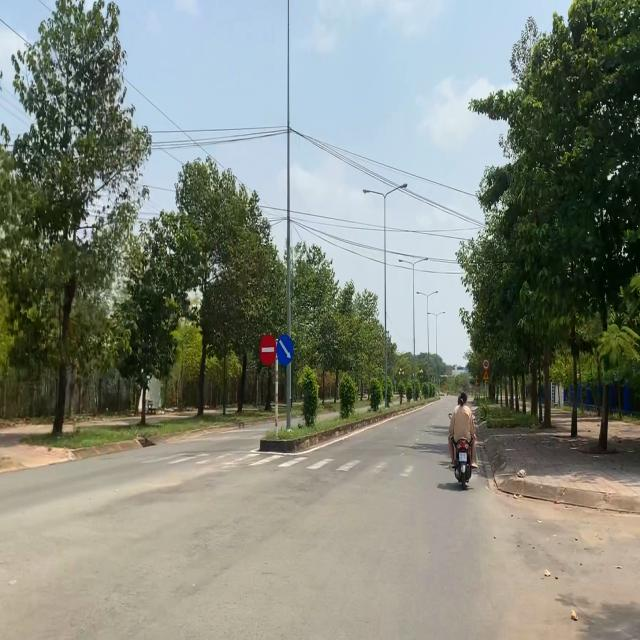Cam nguoc chieu: (260, 334, 276, 366)
Giao voi duong khong uu tien: (483, 372, 489, 382)
Hieu lenh: (276, 334, 294, 367)
Toc do toi da: (483, 359, 489, 370)
